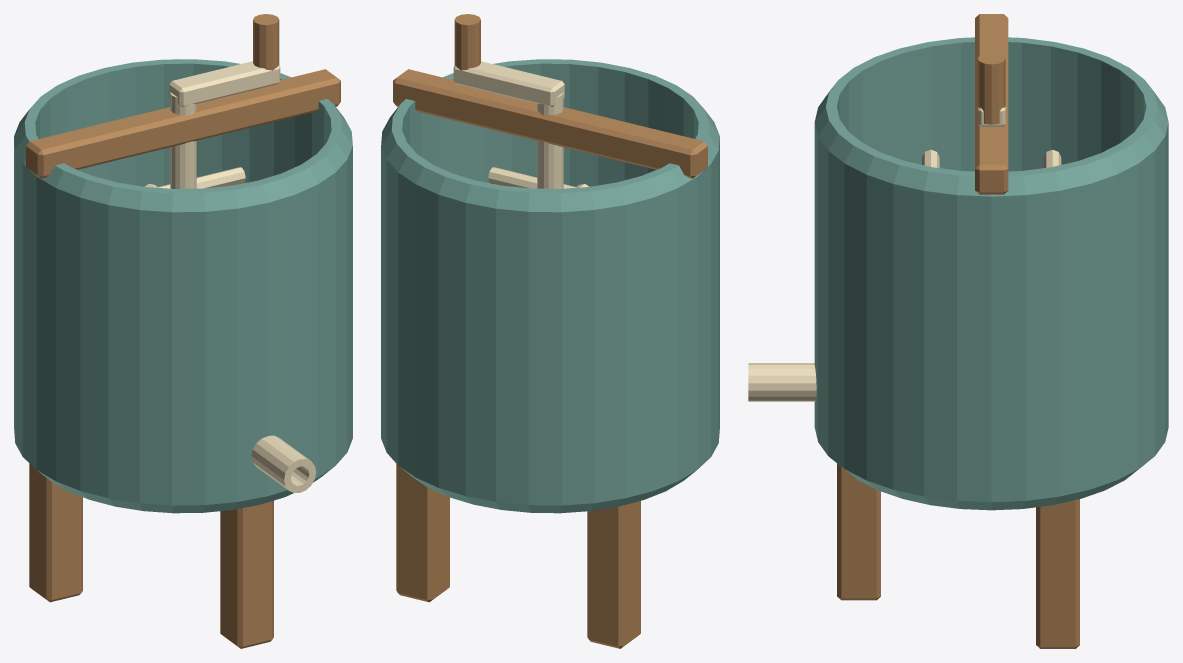
3 renders of one model, left to right at view 1: azimuth 30°, elevation 25°; view 2: azimuth 150°, elevation 25°; view 3: azimuth 270°, elevation 25°, orthographic. The views are drawn at different scales.
Visible parts, largest first — view 1: beekeeping-honey-extractor-01; view 2: beekeeping-honey-extractor-01; view 3: beekeeping-honey-extractor-01.
Boxes of the visible parts, <box> form: beekeeping-honey-extractor-01: <box>14,14,352,648</box>; beekeeping-honey-extractor-01: <box>381,14,719,648</box>; beekeeping-honey-extractor-01: <box>748,14,1168,648</box>.
Size of the model in its own units: 0.66 by 1.15 by 0.76.
